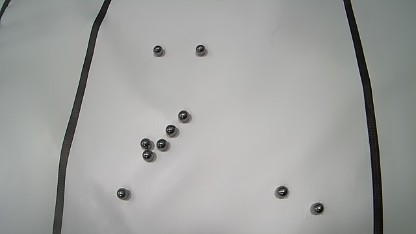ironball: (165, 124, 178, 137), (311, 202, 324, 215), (275, 185, 288, 198), (178, 110, 190, 123), (116, 188, 129, 200), (156, 139, 168, 151), (140, 138, 152, 149), (195, 44, 206, 56), (142, 149, 153, 161), (153, 45, 163, 56)
